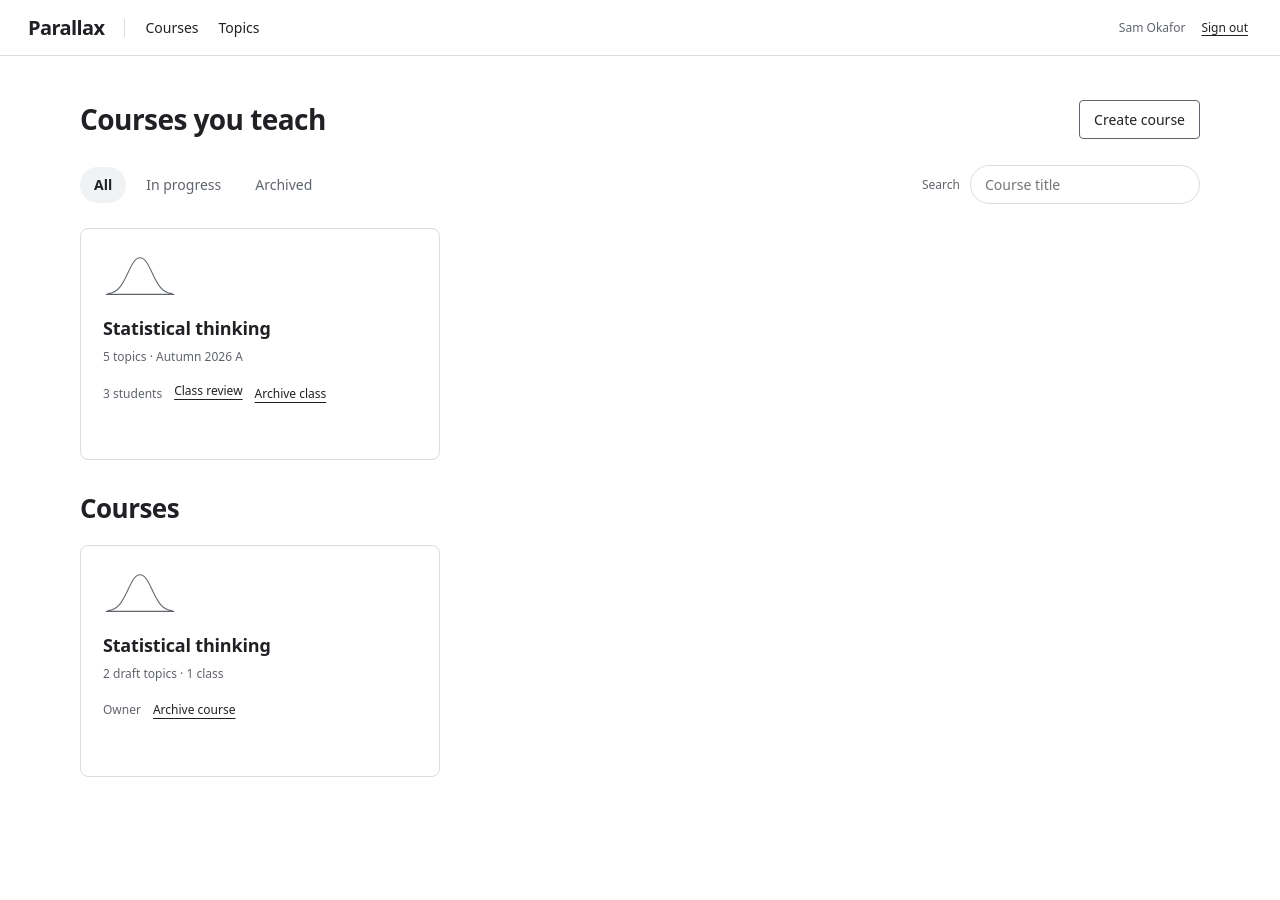
Test: archive and restore › A21 the course owner archives a class after confirming, and sees the archived state only once the server answered
Click the button with aria-label "Archive class Statistical thinking · Autumn 2026 A" at (290, 394), box left=255, top=382, right=326, bottom=406
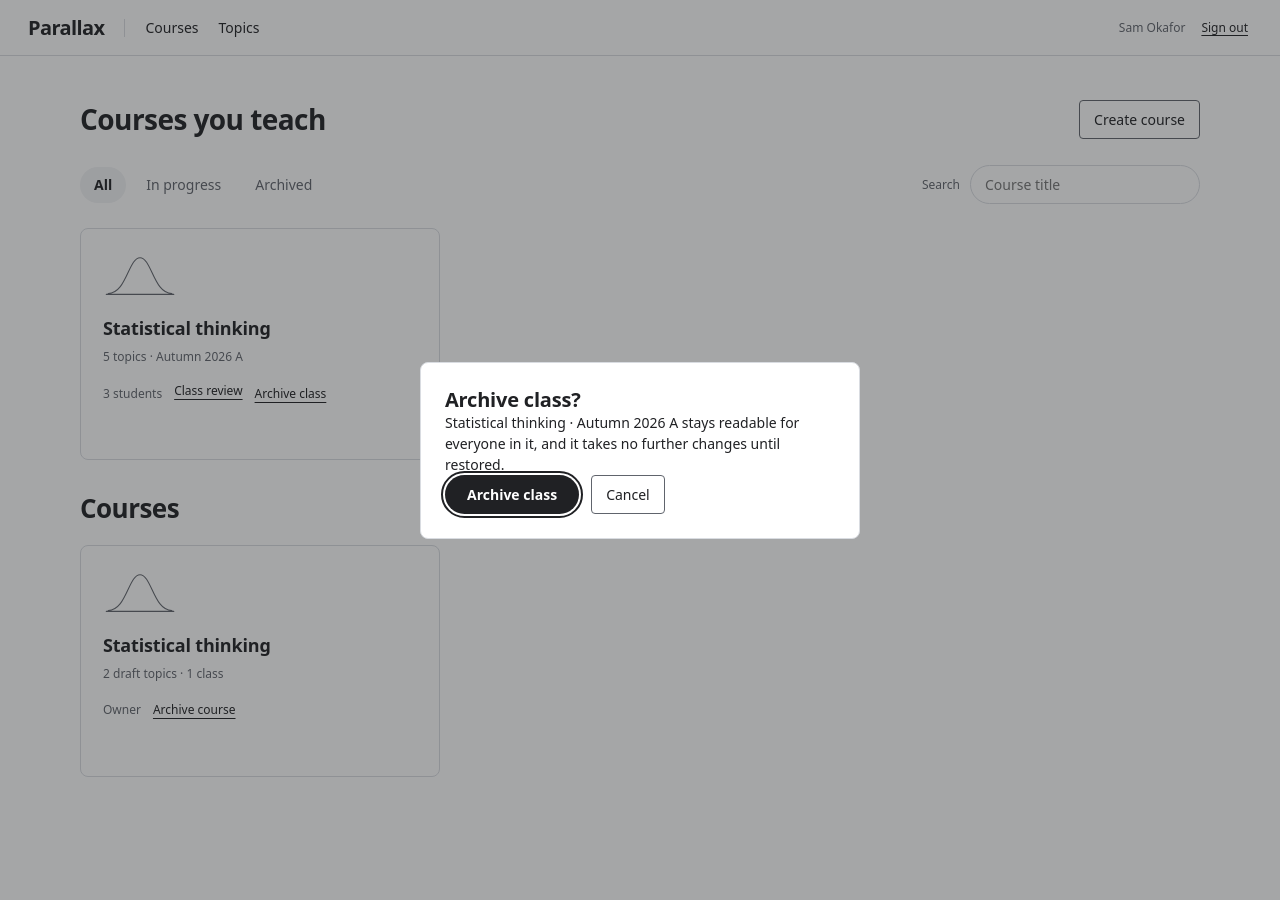
Click the button "Archive class" at (512, 494), box left=445, top=474, right=579, bottom=514
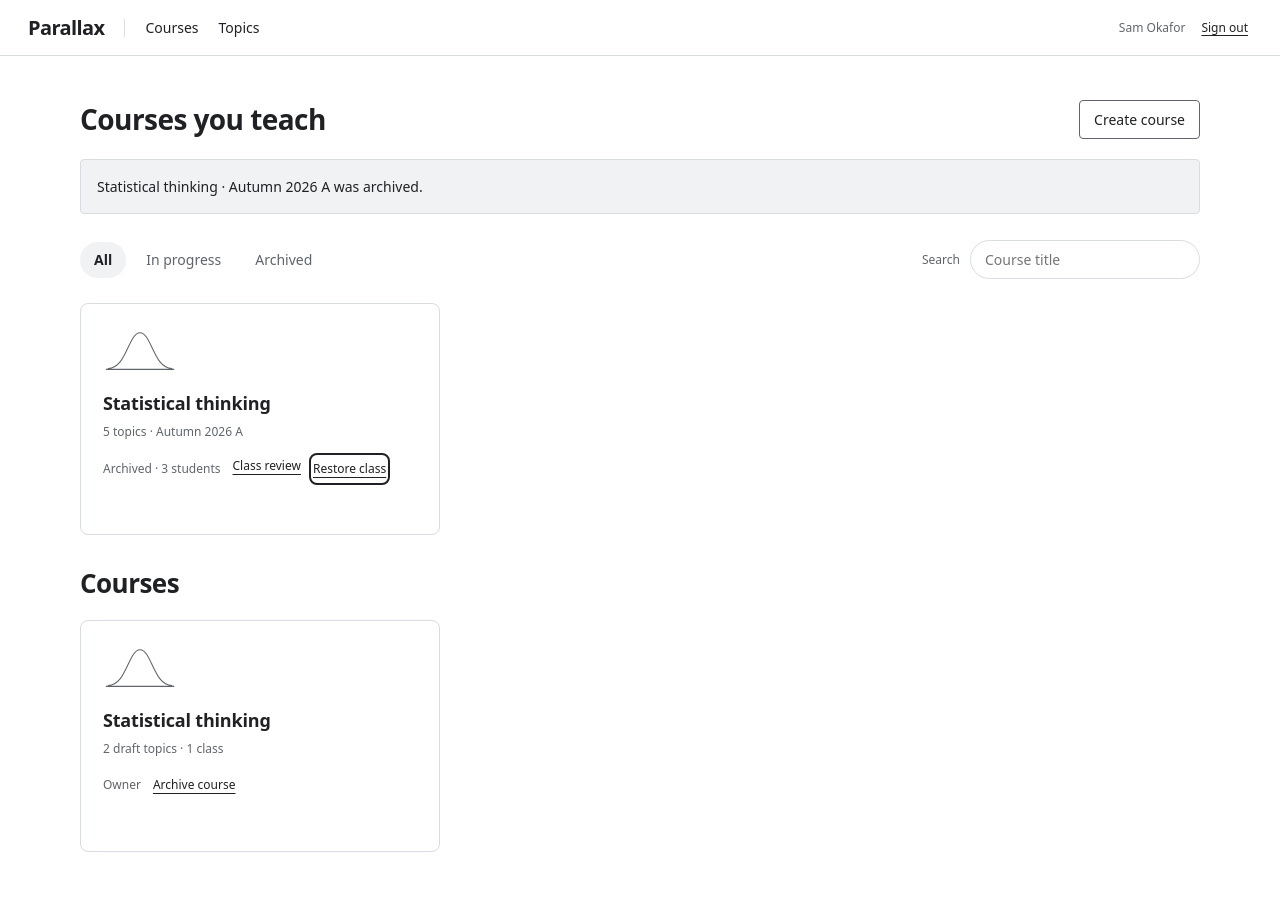
Check: the text "Statistical thinking · Autumn 2026 A was archived." is shown, box left=97, top=176, right=423, bottom=197
Check: the text "Archived · 3 students" is shown, box left=103, top=460, right=220, bottom=478
Check: the button with aria-label "Restore class Statistical thinking · Autumn 2026 A" is shown, box left=313, top=457, right=386, bottom=481
